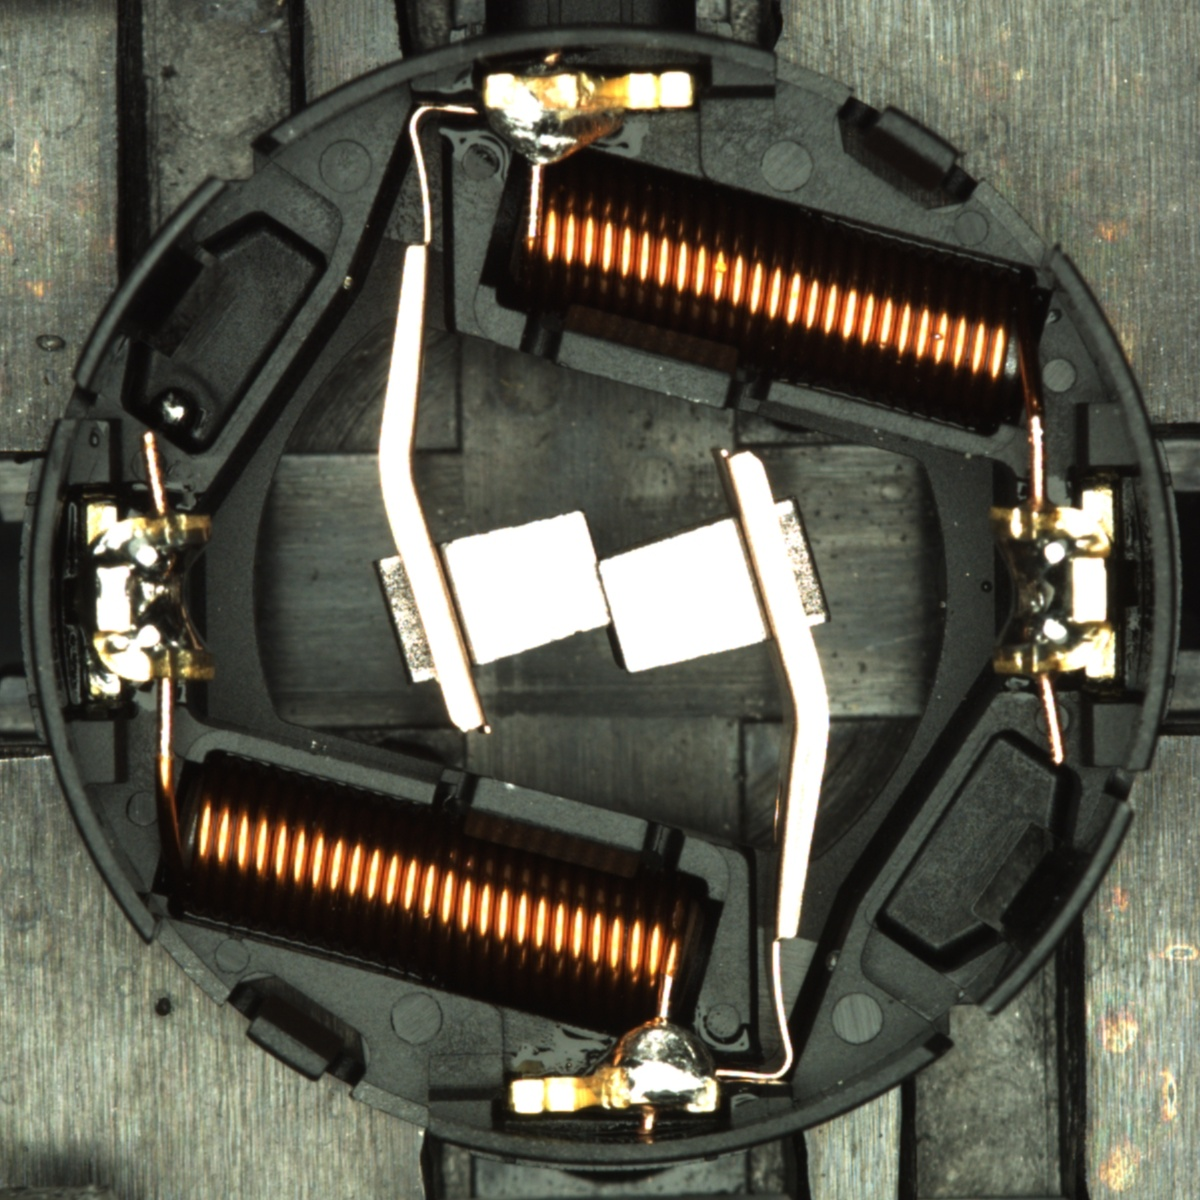1: (713, 928, 942, 1153), (254, 31, 483, 255)
2: (254, 928, 483, 1153), (713, 31, 942, 255)
3: (25, 255, 254, 479), (942, 704, 1171, 928)
4: (254, 255, 483, 479), (713, 704, 942, 928)
5: (483, 143, 713, 367), (483, 816, 713, 1040)
6: (713, 255, 942, 479), (254, 704, 483, 928)
7: (942, 255, 1171, 479), (25, 704, 254, 928)
cacbon: (394, 498, 802, 685)
chau_dien: (983, 487, 1123, 687), (80, 497, 219, 698)
hat_chi: (152, 387, 200, 438)
tay_choi: (480, 68, 699, 171), (507, 1016, 721, 1117)
thanh_de: (953, 786, 1142, 1031), (59, 164, 245, 403)
